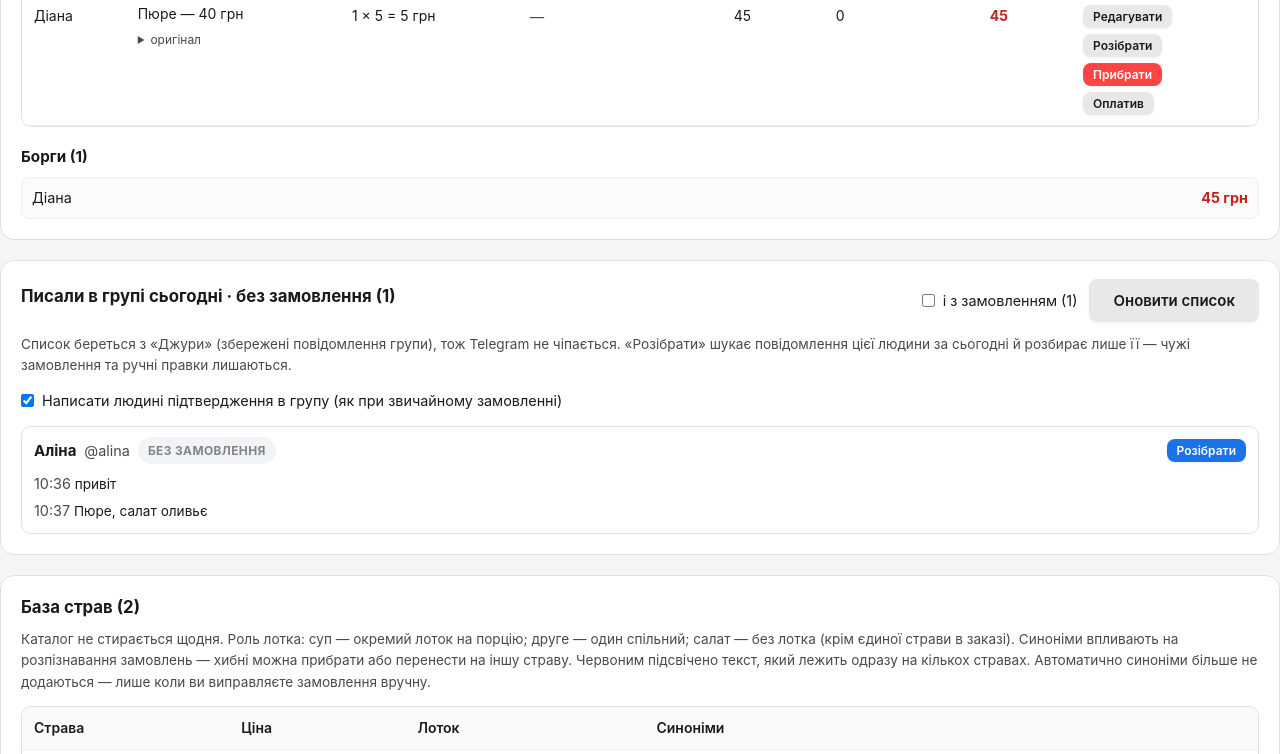
Test case: LunchTab · розбір окремої людини › вимкнений чекбокс підтвердження → notify:false
(page scrolled)
Click the checkbox labelled "Написати людині підтвердження": (28, 400) [21, 394, 34, 407]
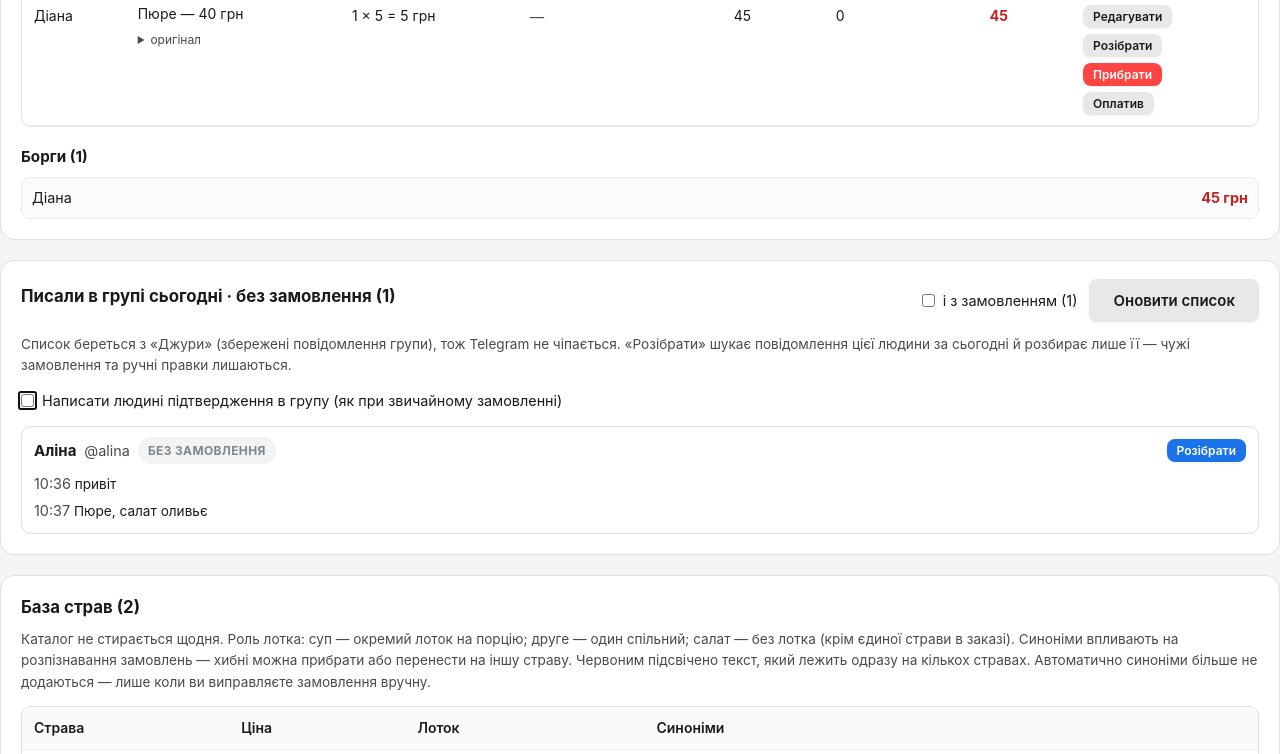
Click the button "Розібрати" in the row of "alina": (1206, 451) [1167, 439, 1246, 462]
(page scrolled)
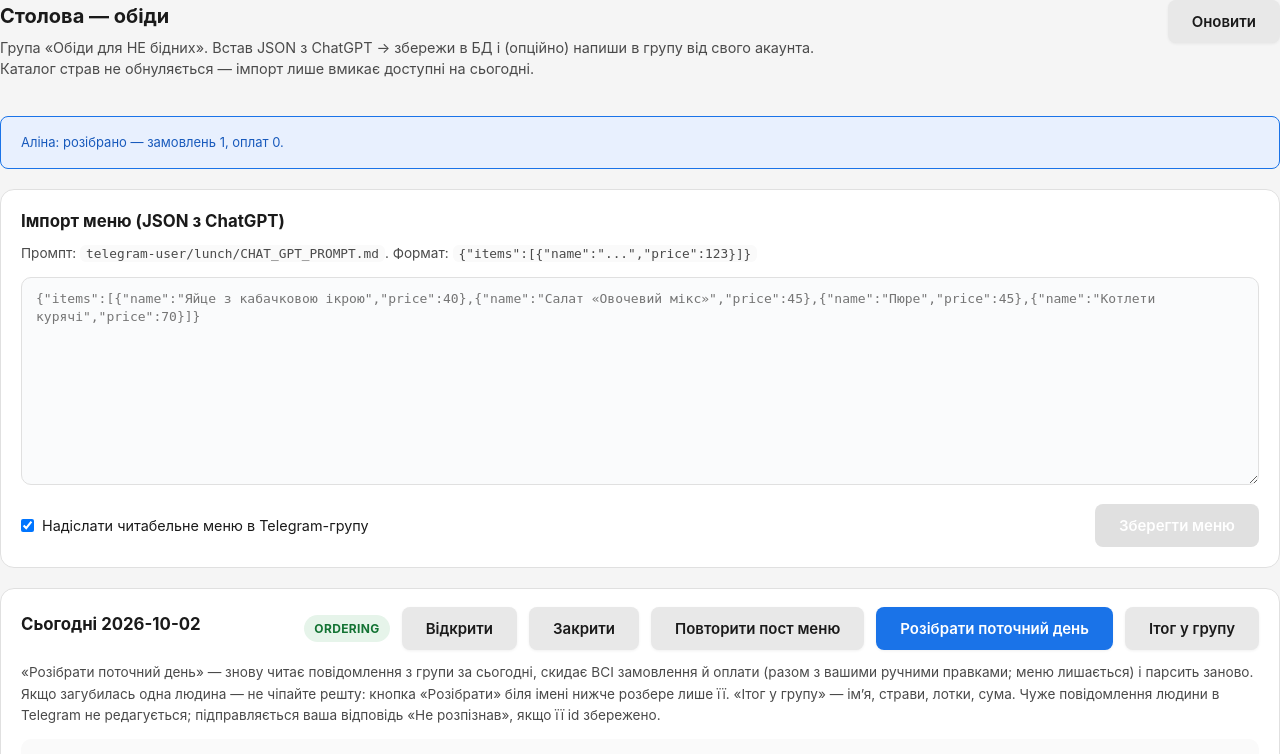
Check: the text "Аліна: розібрано — замовлень 1, оплат 0." is shown, box [0, 116, 1279, 169]
